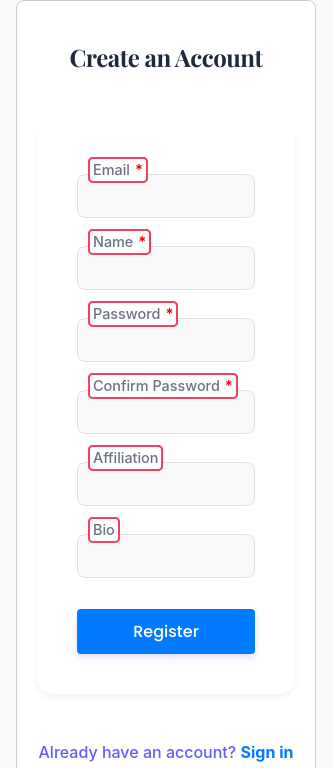
Register Component › Form Submission › should display error message on API failure
// Fill out the required fields
Type "test@example.com" into the 1st field named "email*". click: (166, 196)
box: [77, 174, 255, 218]
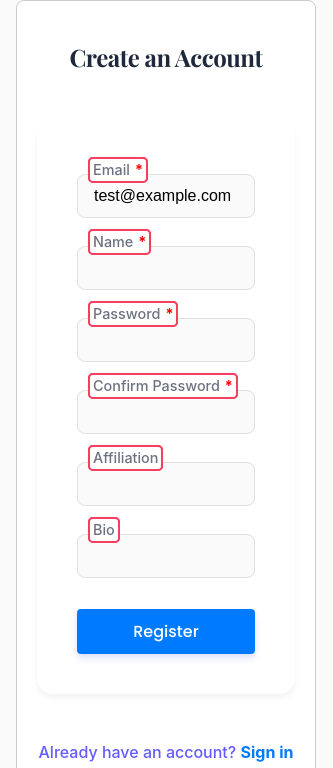
Type "Test User" into the 2nd field named "name*". click: (166, 268)
box: [77, 246, 255, 290]
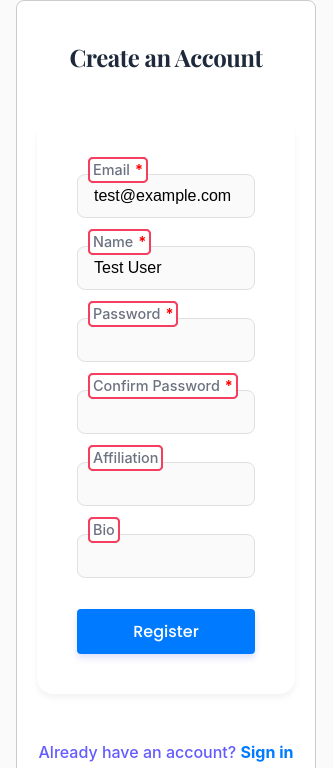
Type "password123" into the 1st password field named "password*". click: (166, 340)
box: [77, 318, 255, 362]
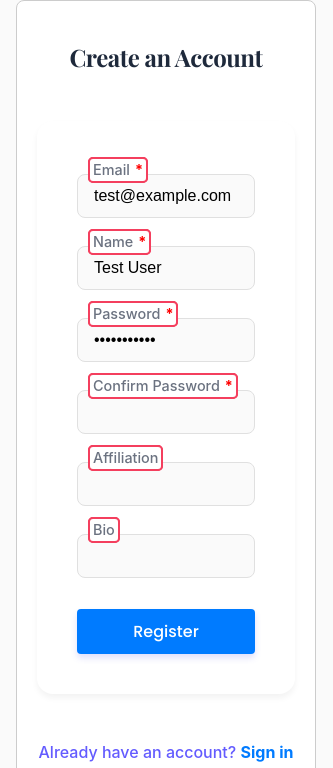
Type "password123" into the 2nd password field named "confirm password*". click: (166, 412)
box: [77, 390, 255, 434]
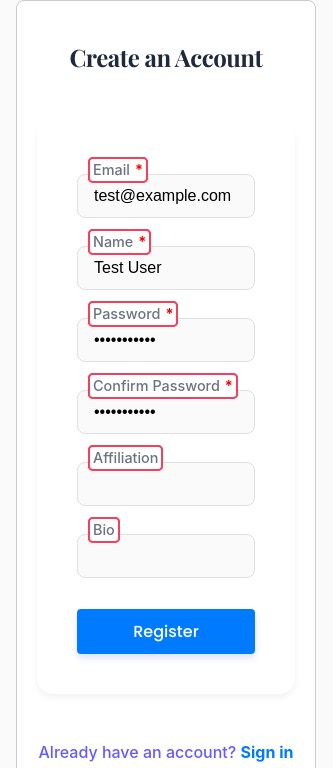
// Submit the form
Click the button "Register". click: (166, 631)
box: [77, 609, 255, 654]
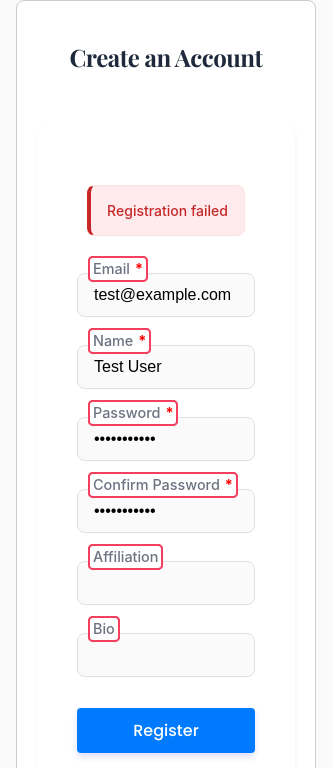
Check: the text "Registration failed" is shown, box [87, 185, 245, 236]
